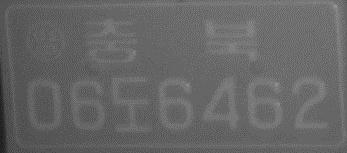0: (25, 76, 64, 134)
2: (291, 75, 329, 130)
4: (201, 77, 240, 131)
6: (68, 78, 106, 133), (245, 76, 283, 131), (156, 77, 193, 131)
도: (111, 76, 153, 133)
영: (24, 19, 68, 65)
충북_D: (79, 15, 258, 64)
